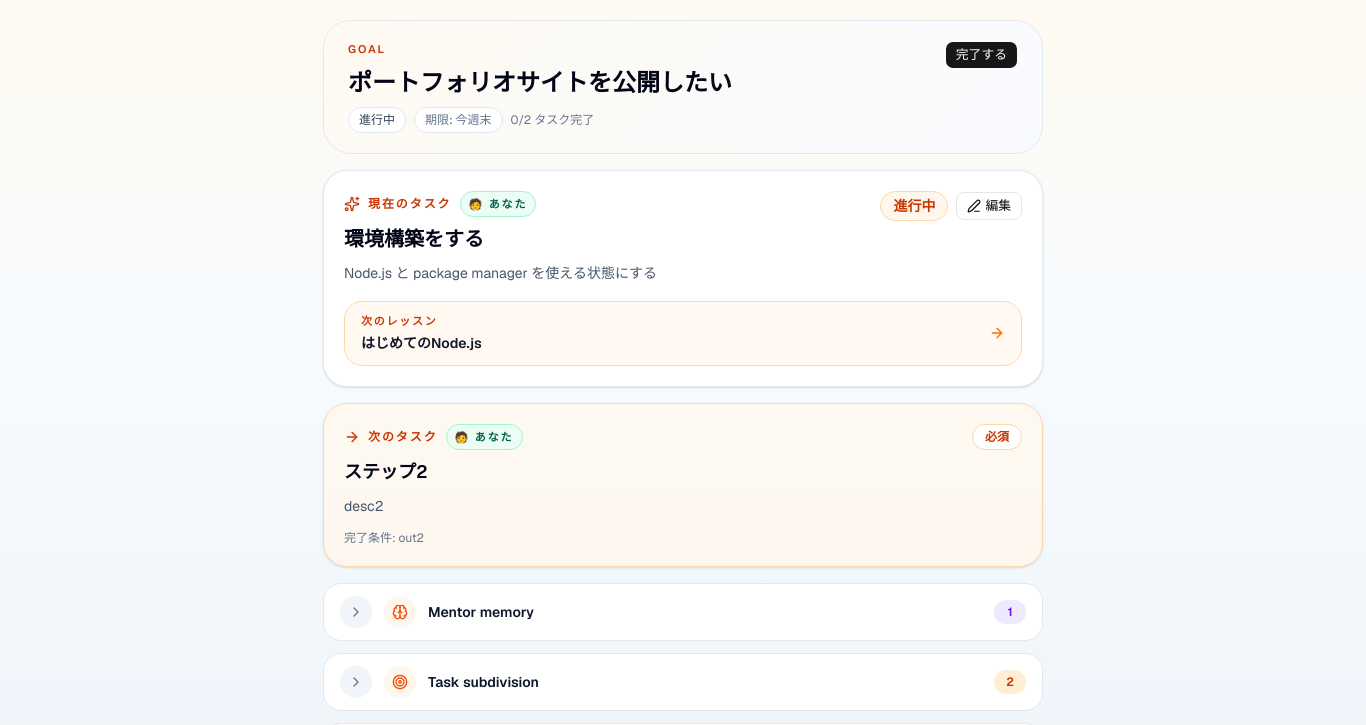
Scenario: MentorWorkspaceView › keeps mentor memory content collapsed by default
Expected: the text "CLI を先に整える" is not shown
Click the button "Mentor memory 1" at coordinates (356, 612), box [324,584,1042,640]
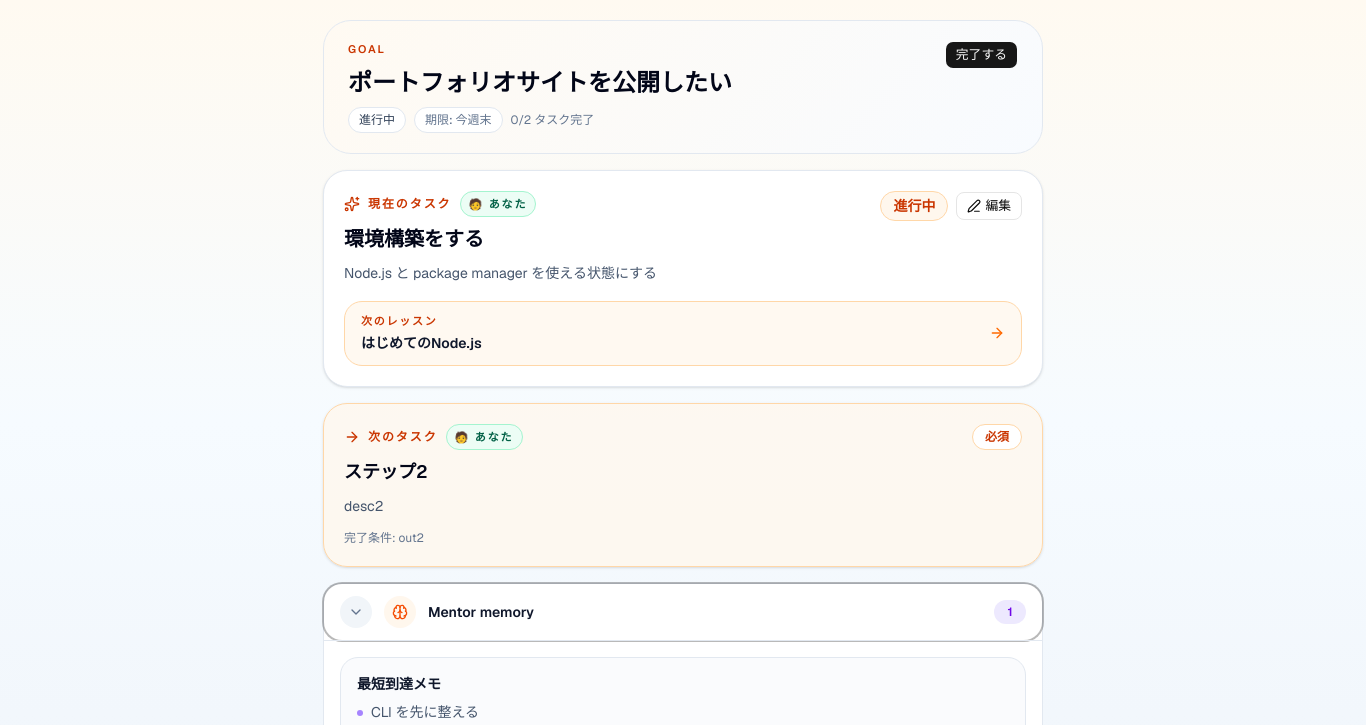
Now the text "CLI を先に整える" is shown, box [371,702,479,722]
